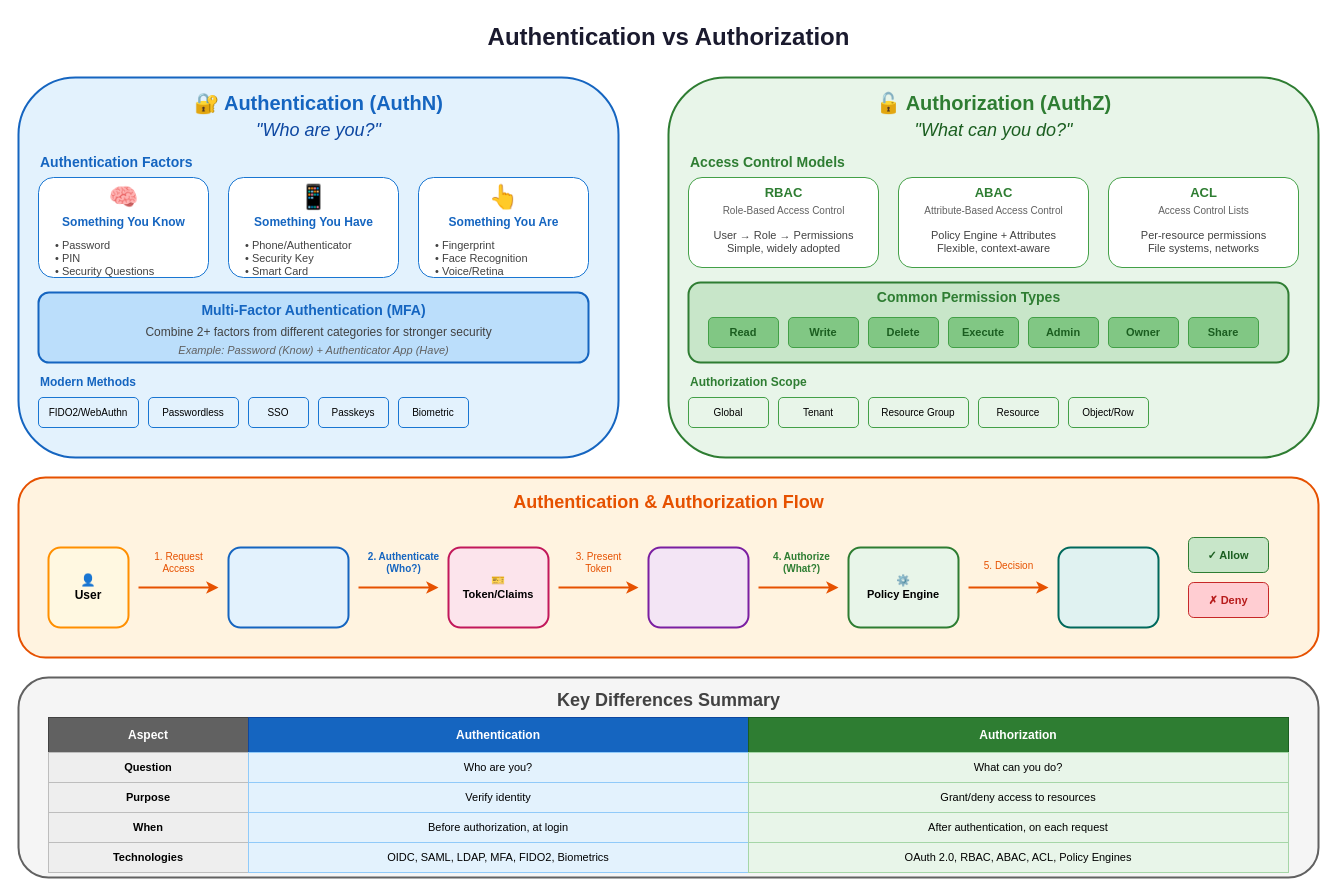
This 1336x895 diagram has some shape labels left out. Here are the shapes that lost their labels. From the top down, the centre of each, then its label:
(x=288, y=587): 🔐 Identity Provider
(x=698, y=587): 📱 Application
(x=1108, y=587): 📦 Resource
